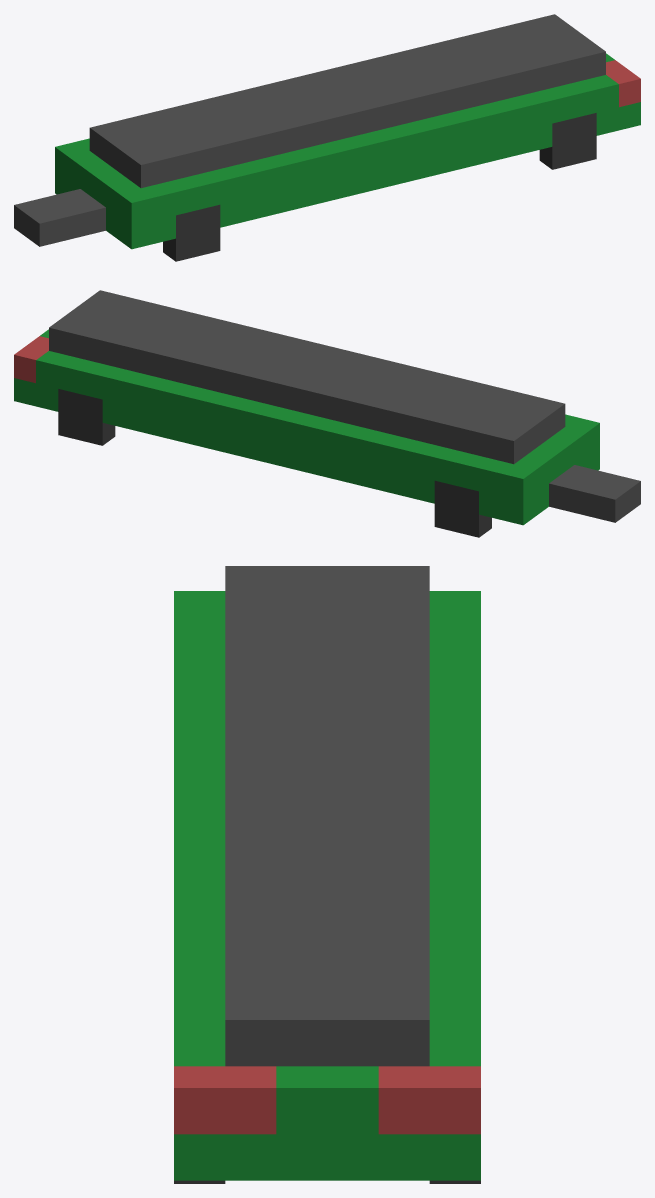
The model's file is truck-trailer-v2-green.gltf.
3 renders of one model, top to bottom at view 1: azimuth 30°, elevation 25°; view 2: azimuth 150°, elevation 25°; view 3: azimuth 270°, elevation 25°, orthographic. The views are drawn at different scales.
Visible parts, largest first — view 1: model, wheels; view 2: model, wheels; view 3: model.
Boxes of the visible parts, left/top/right/bottom form: model: left=14, top=14, right=640, bottom=249; wheels: left=163, top=113, right=596, bottom=261; model: left=14, top=290, right=640, bottom=525; wheels: left=58, top=389, right=491, bottom=537; model: left=174, top=566, right=480, bottom=1180.
Bounding box in the file's own units: 2.6 × 0.4 × 0.6.
Materials: 2 (2 with a texture image).
